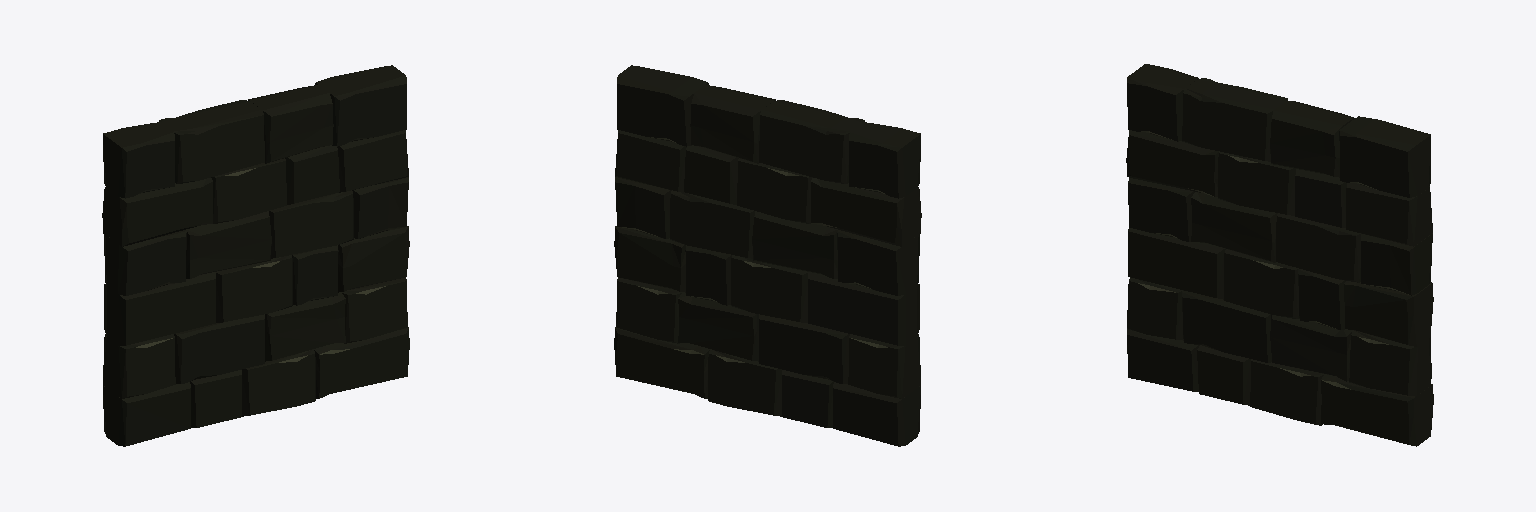
Rendered from Wall.obj.
3 renders of one model, left to right at view 1: azimuth 30°, elevation 25°; view 2: azimuth 150°, elevation 25°; view 3: azimuth 330°, elevation 25°, orthographic.
Visible parts, largest first — view 1: Wall_Cube.354; view 2: Wall_Cube.354; view 3: Wall_Cube.354.
Boxes of the visible parts, <box> form: Wall_Cube.354: <box>102,65,409,446</box>; Wall_Cube.354: <box>614,65,921,446</box>; Wall_Cube.354: <box>1126,64,1433,446</box>.
Size of the model in its own units: 2 by 2 by 0.2859.